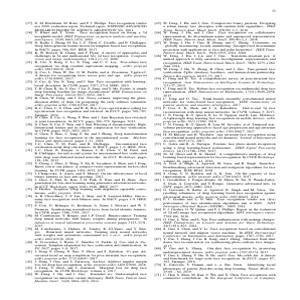text: (20, 19, 150, 286), (151, 18, 278, 287)
